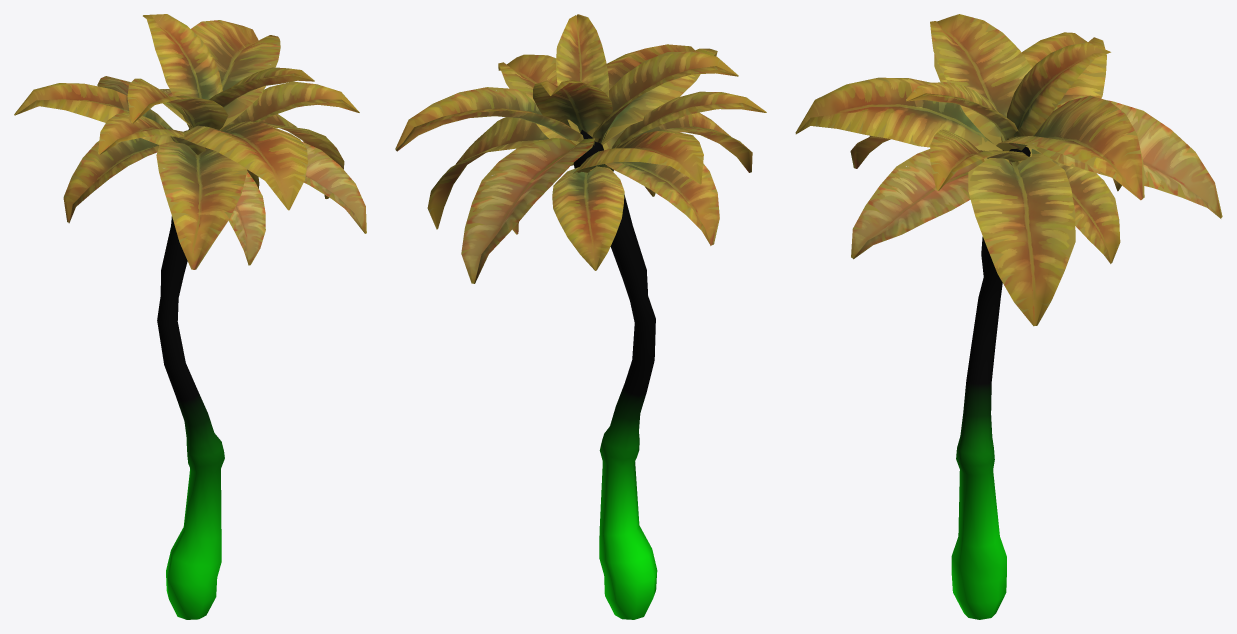
The model's file is SM_DesertPalmTree02.fbx.
3 views of the same model, side by side, from view 1: azimuth 30°, elevation 25°; view 2: azimuth 150°, elevation 25°; view 3: azimuth 270°, elevation 25° (orthographic). The views are drawn at different scales.
Visible parts, largest first — view 1: SM_DesertPalmTree02_LOD0; view 2: SM_DesertPalmTree02_LOD0; view 3: SM_DesertPalmTree02_LOD0.
Part boxes in pixels (box(x1,y1,x2,y2)): SM_DesertPalmTree02_LOD0: box(14, 14, 366, 619); SM_DesertPalmTree02_LOD0: box(395, 14, 766, 619); SM_DesertPalmTree02_LOD0: box(795, 14, 1222, 619).
Size of the model in its own units: 614 by 1118 by 753.
